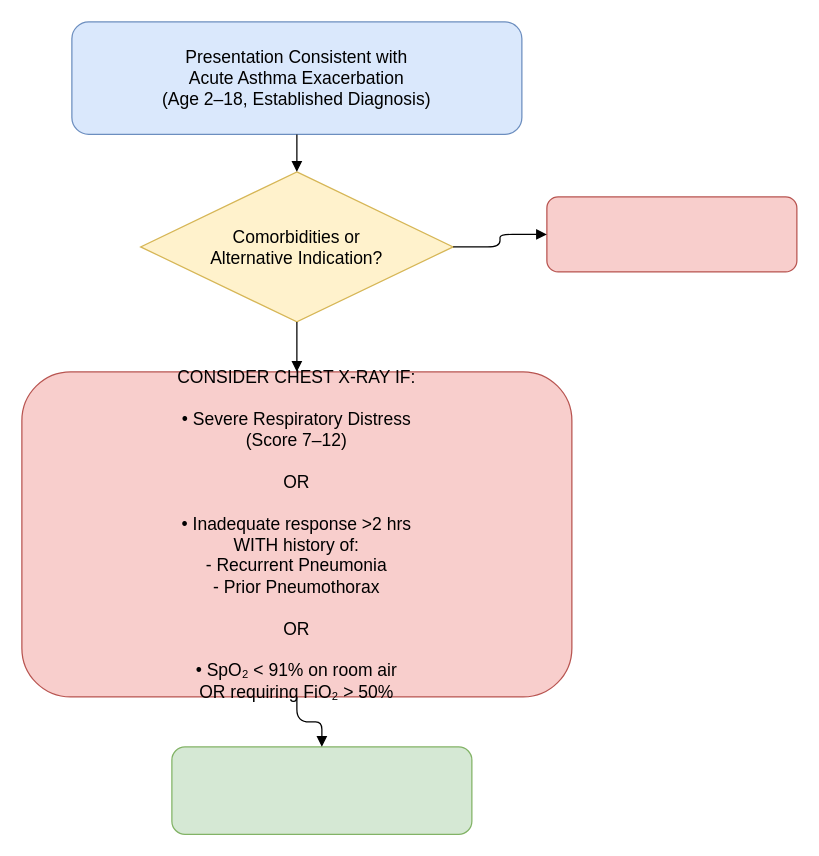
The diagram is 819 pixels wide and 856 high, and some of its shapes have lost their labels. Each missing label, with the centre of its shape:
Manage Accordingly: point (671, 234)
NO Routine Chest X-Ray: point (321, 790)
